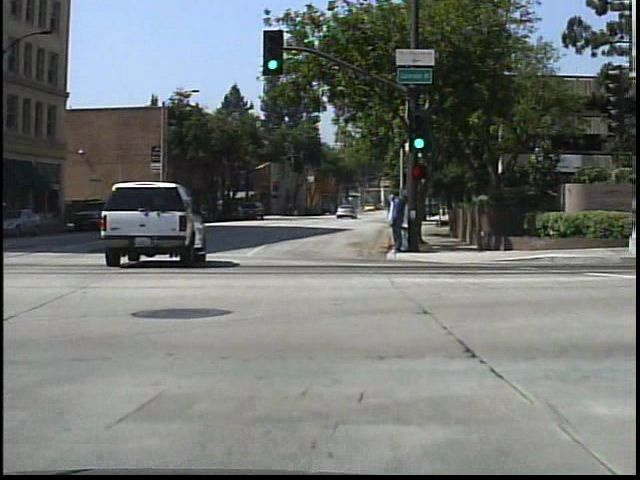person: (385, 187, 408, 256), (385, 193, 404, 254)
